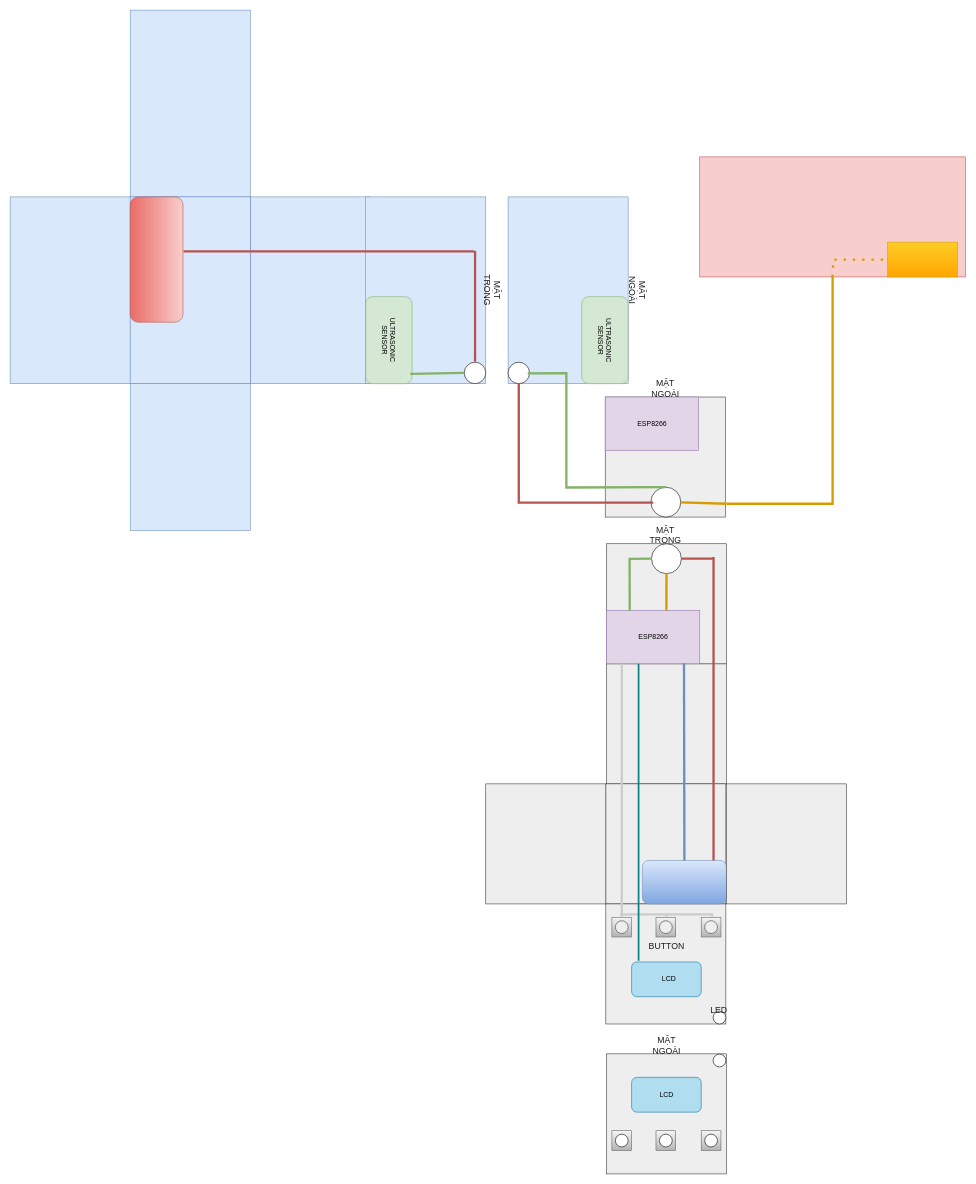
The diagram is 976 pixels wide and 1184 high, and some of its shapes have lost their labels. Here are the shapes that lost their labels. From the top down, the box of each, then its label:
(130, 196, 183, 322): PUMP
(887, 242, 957, 277): TEMPERATURE & HUMIDITY SENSOR
(642, 860, 726, 904): RELAY
